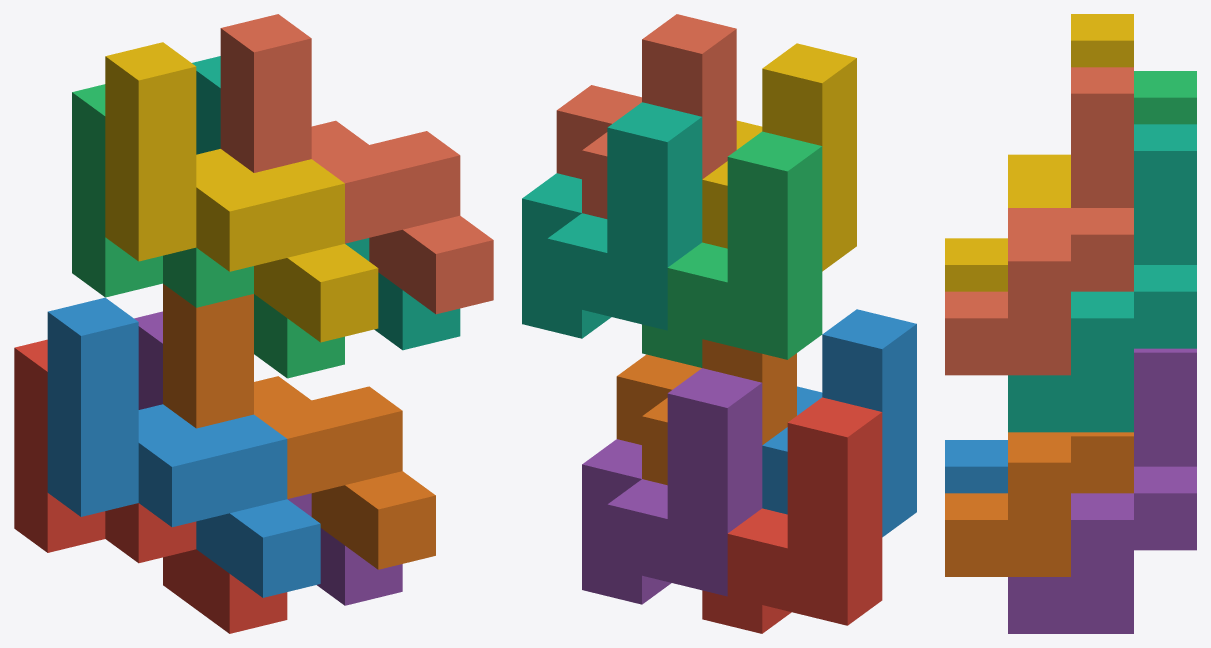
Rendered from tiling.obj.
3 views of the same model, side by side, from view 1: azimuth 30°, elevation 25°; view 2: azimuth 150°, elevation 25°; view 3: azimuth 270°, elevation 25° (orthographic). The views are drawn at different scales.
Parts seen in each view (by area): view 1: copy_1_domain_2, copy_1_domain_4, copy_1_domain_8, copy_1_domain_6, copy_1_domain_1, copy_1_domain_3, copy_1_domain_7, copy_1_domain_5; view 2: copy_1_domain_7, copy_1_domain_5, copy_1_domain_1, copy_1_domain_3, copy_1_domain_8, copy_1_domain_4, copy_1_domain_2, copy_1_domain_6; view 3: copy_1_domain_8, copy_1_domain_7, copy_1_domain_5, copy_1_domain_6, copy_1_domain_4, copy_1_domain_2, copy_1_domain_3.
Part boxes in pixels (box(x1,y1,x2,y2)): copy_1_domain_2: box(47, 297, 320, 597); copy_1_domain_4: box(105, 42, 378, 342); copy_1_domain_8: box(220, 14, 493, 314); copy_1_domain_6: box(163, 284, 435, 569); copy_1_domain_1: box(14, 339, 287, 633); copy_1_domain_3: box(72, 84, 344, 378); copy_1_domain_7: box(192, 56, 460, 350); copy_1_domain_5: box(134, 311, 402, 605); copy_1_domain_7: box(522, 102, 702, 338); copy_1_domain_5: box(582, 368, 762, 604); copy_1_domain_1: box(702, 397, 882, 633); copy_1_domain_3: box(642, 131, 822, 367); copy_1_domain_8: box(556, 14, 736, 218); copy_1_domain_4: box(702, 43, 856, 271); copy_1_domain_2: box(762, 309, 916, 537); copy_1_domain_6: box(616, 339, 796, 485); copy_1_domain_8: box(945, 67, 1133, 375); copy_1_domain_7: box(1008, 124, 1196, 432); copy_1_domain_5: box(1008, 348, 1196, 633); copy_1_domain_6: box(945, 432, 1133, 576); copy_1_domain_4: box(945, 14, 1133, 291); copy_1_domain_2: box(945, 440, 1007, 493); copy_1_domain_3: box(1134, 71, 1196, 124).
Bounding box in the file's own units: 6 × 9 × 4.
